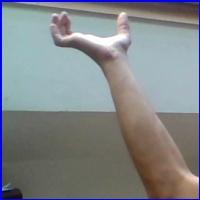space: (48, 9, 140, 67)
